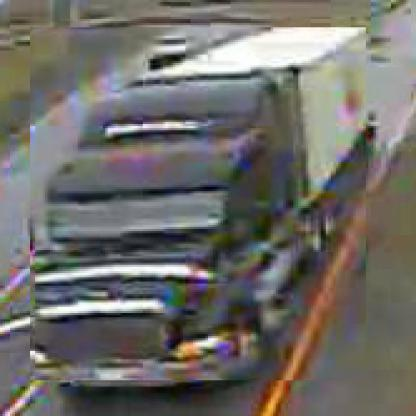container: (31, 29, 369, 384)
